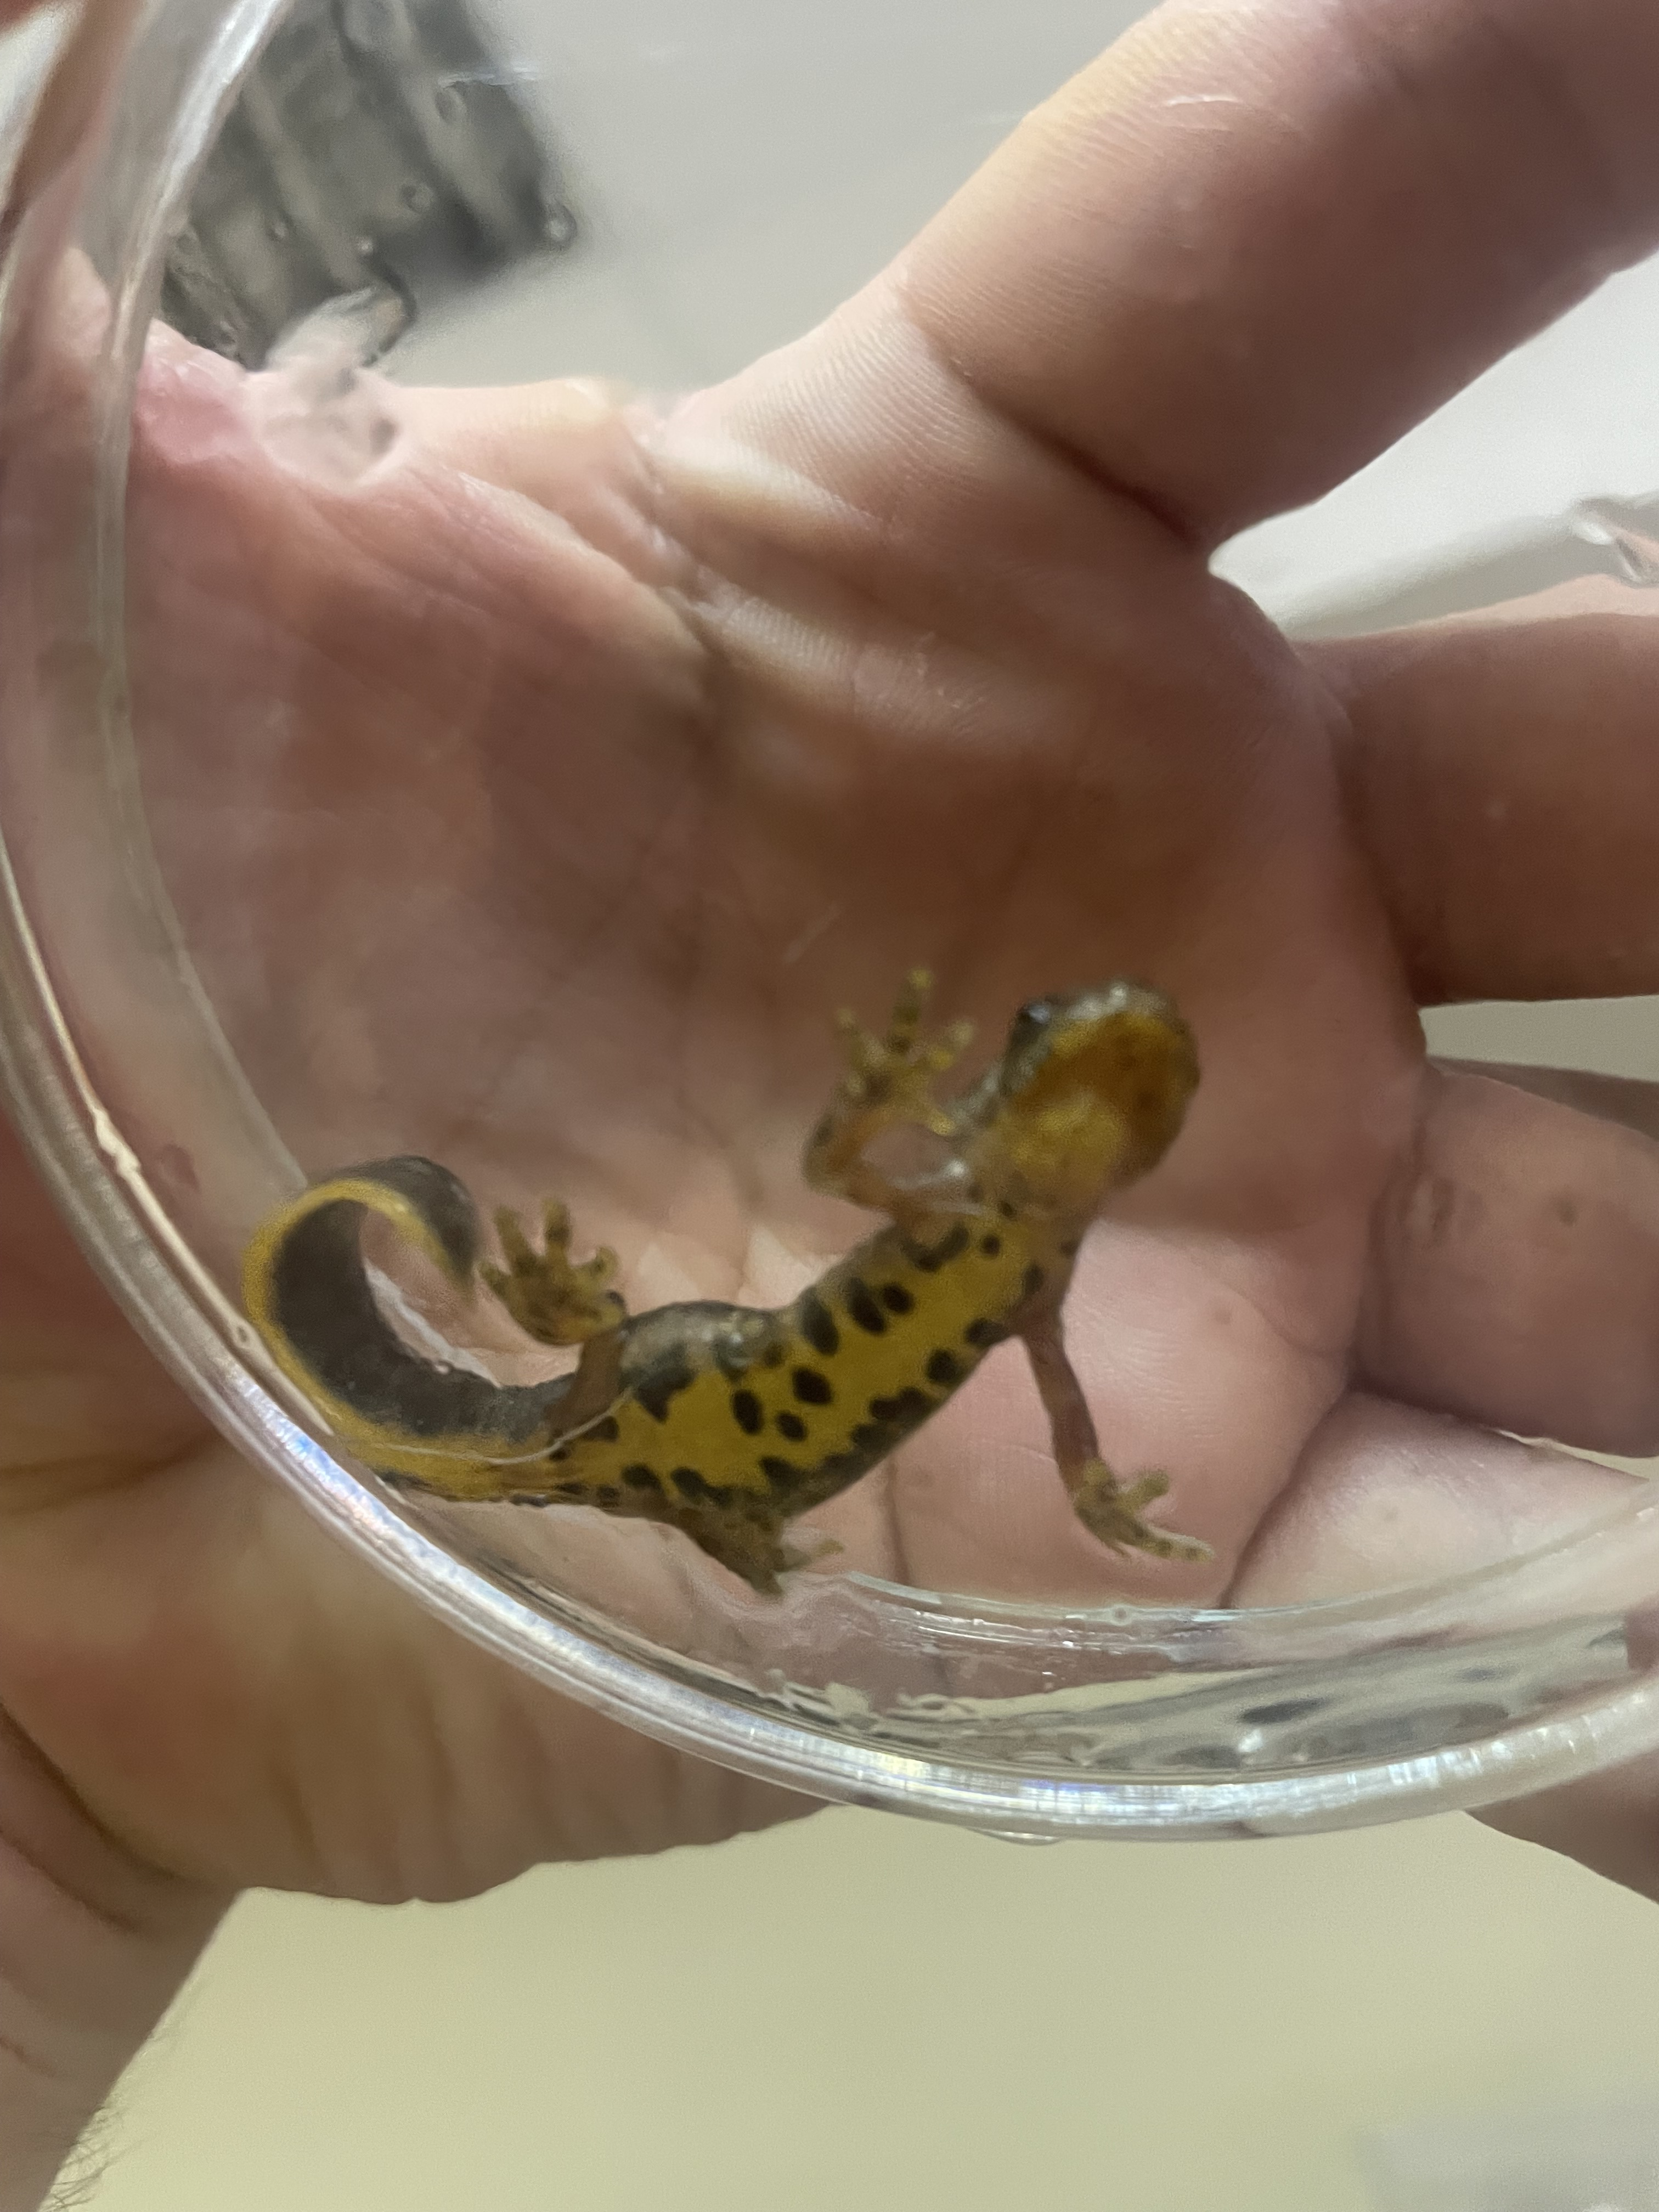Karelin_newt: (615, 1224, 1019, 1522)
